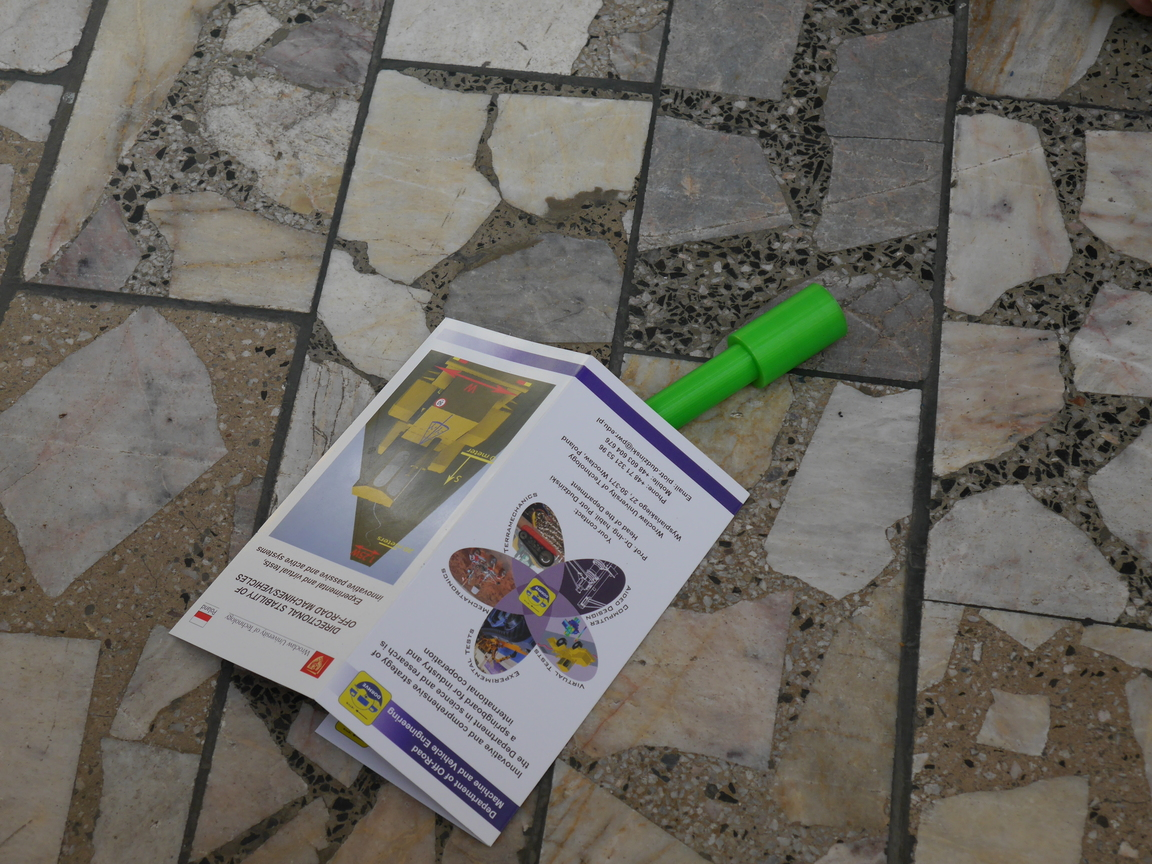cargo_g: (636, 284, 849, 431)
